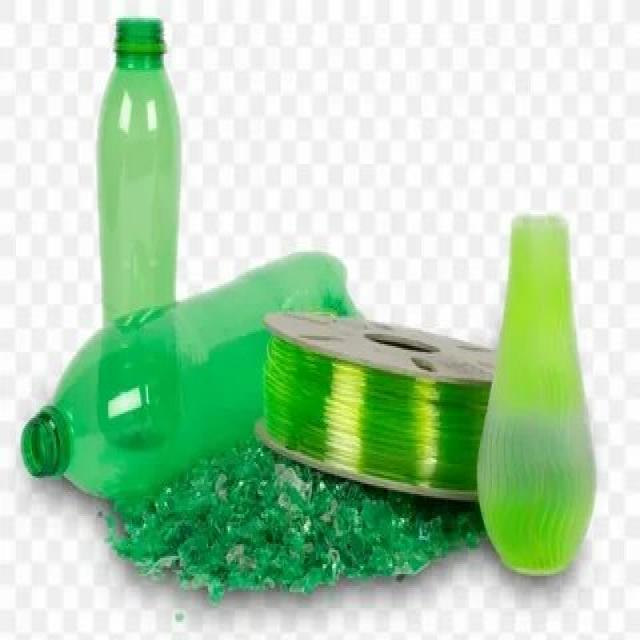green: (22, 252, 254, 500), (96, 19, 180, 304)
